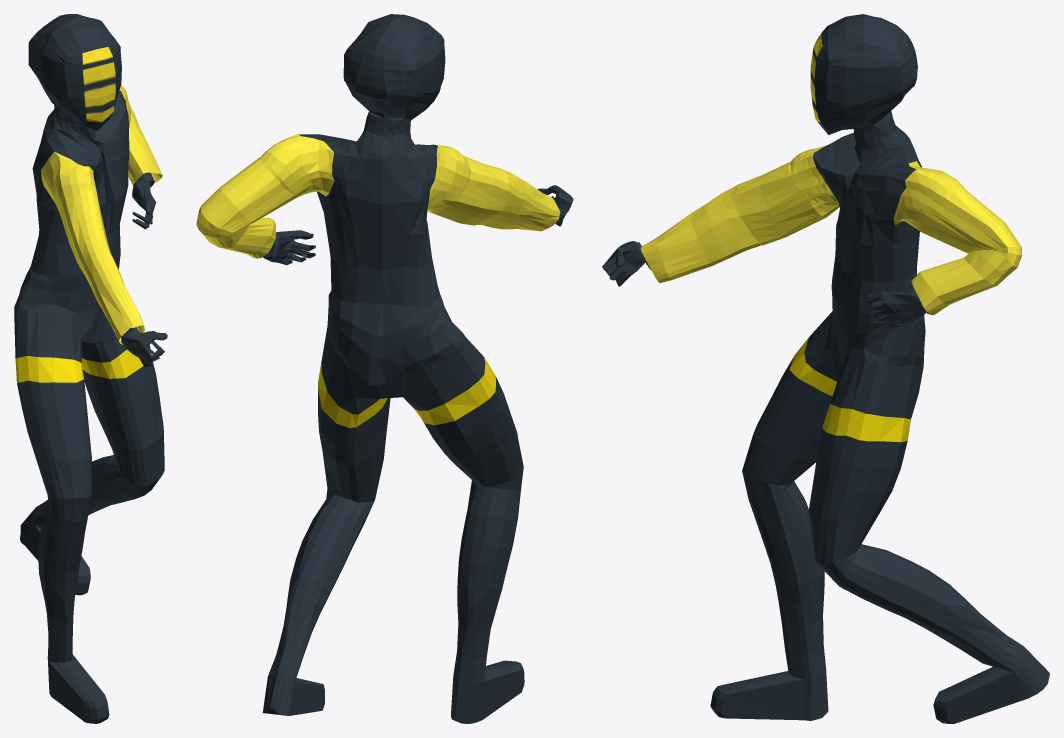
The model's file is Sentry_WF_000007.obj.
3 views of the same model, side by side, from view 1: azimuth 30°, elevation 25°; view 2: azimuth 150°, elevation 25°; view 3: azimuth 270°, elevation 25° (orthographic). The views are drawn at different scales.
Parts seen in each view (by area): view 1: Cube; view 2: Cube; view 3: Cube.
Boxes of the visible parts, bbox=[...] form: Cube: bbox=[14, 14, 167, 723]; Cube: bbox=[196, 14, 573, 723]; Cube: bbox=[602, 14, 1049, 723].
Size of the model in its own units: 1.17 by 3.75 by 2.11.
